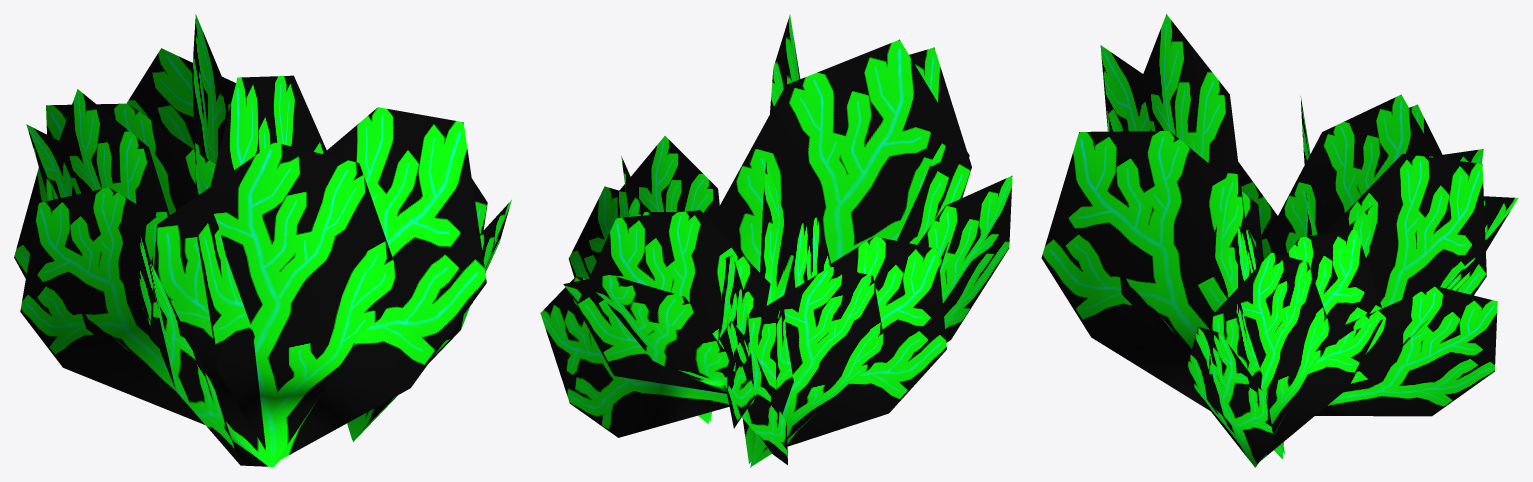
Rendered from SM_Bush_C_01.fbx.
3 views of the same model, side by side, from view 1: azimuth 30°, elevation 25°; view 2: azimuth 150°, elevation 25°; view 3: azimuth 270°, elevation 25° (orthographic). The views are drawn at different scales.
Visible parts, largest first — view 1: SM_Bush_C_01_LOD0; view 2: SM_Bush_C_01_LOD0; view 3: SM_Bush_C_01_LOD0.
Part boxes in pixels (left/top/right/bottom): SM_Bush_C_01_LOD0: left=14, top=14, right=511, bottom=467; SM_Bush_C_01_LOD0: left=540, top=15, right=1012, bottom=467; SM_Bush_C_01_LOD0: left=1041, top=14, right=1518, bottom=467.
Size of the model in its own units: 218 by 213 by 229.
